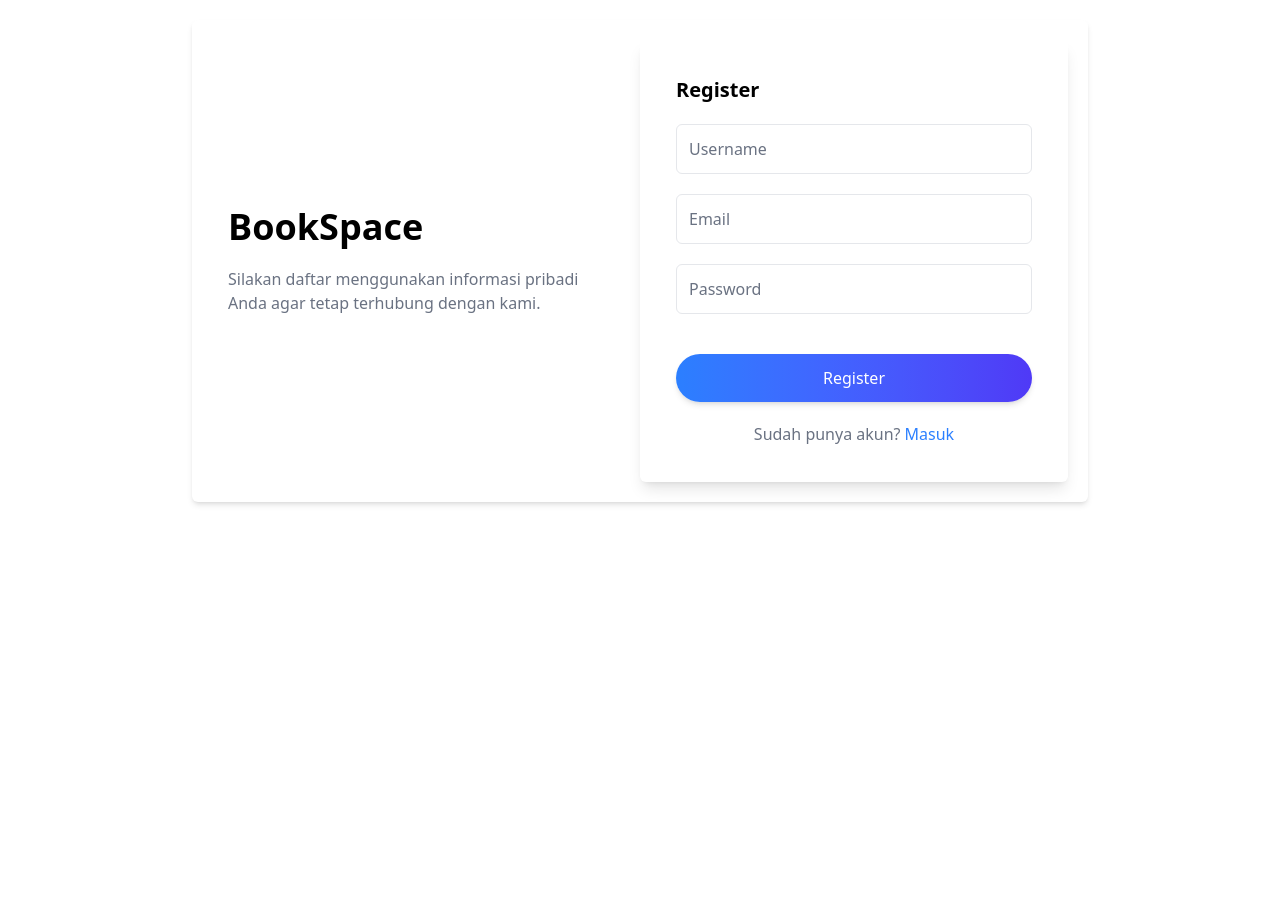
Halaman Register › menampilkan modal jika email/password tidak valid
This screenshot has width=1280, height=900.
Step 1. Type "pengguna salah dalam menginputkan" into the field with placeholder "Email" → (854, 219), box 676,194 -> 1032,244
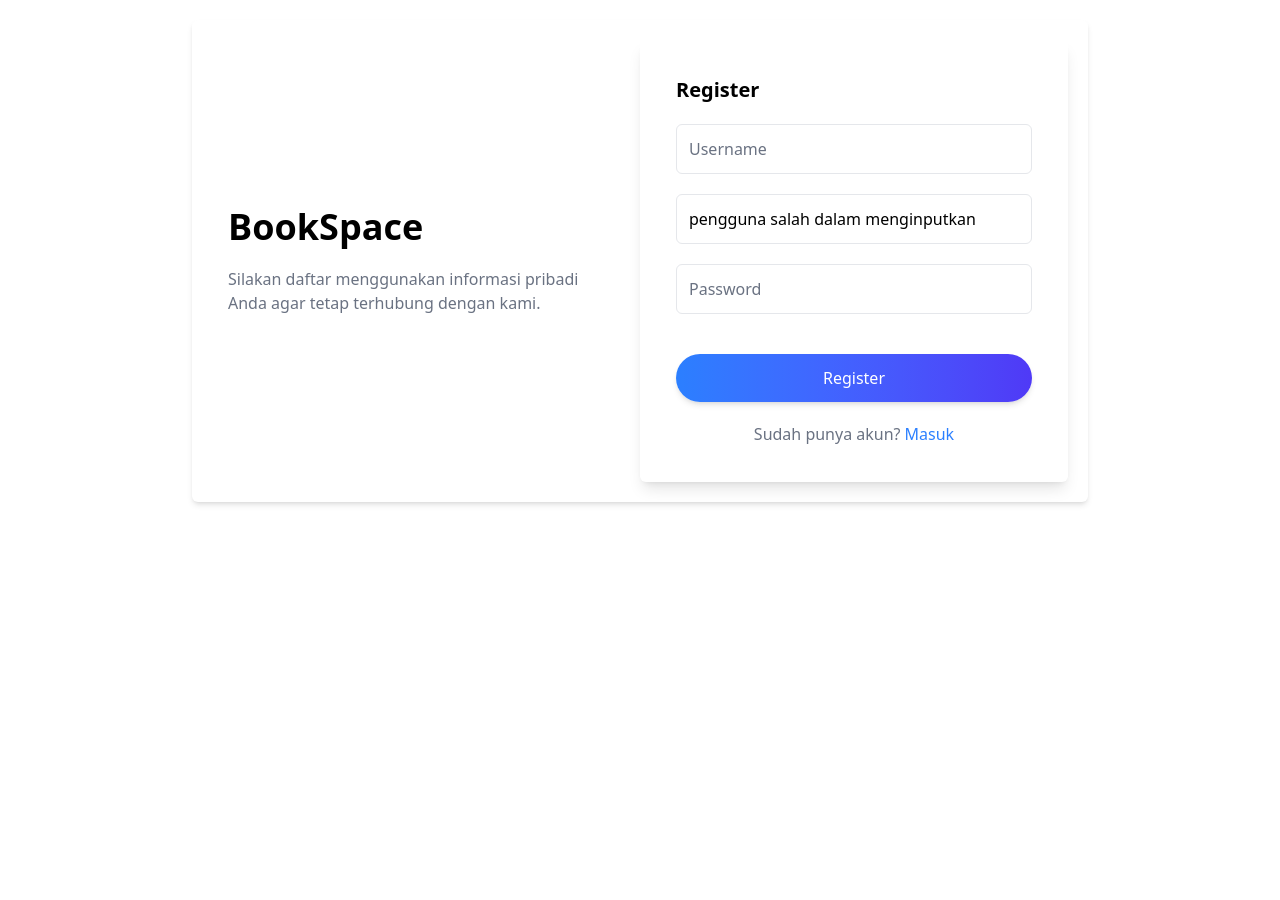
Step 2. Type "abc" into the password field with placeholder "Password" → (854, 289), box 676,264 -> 1032,314
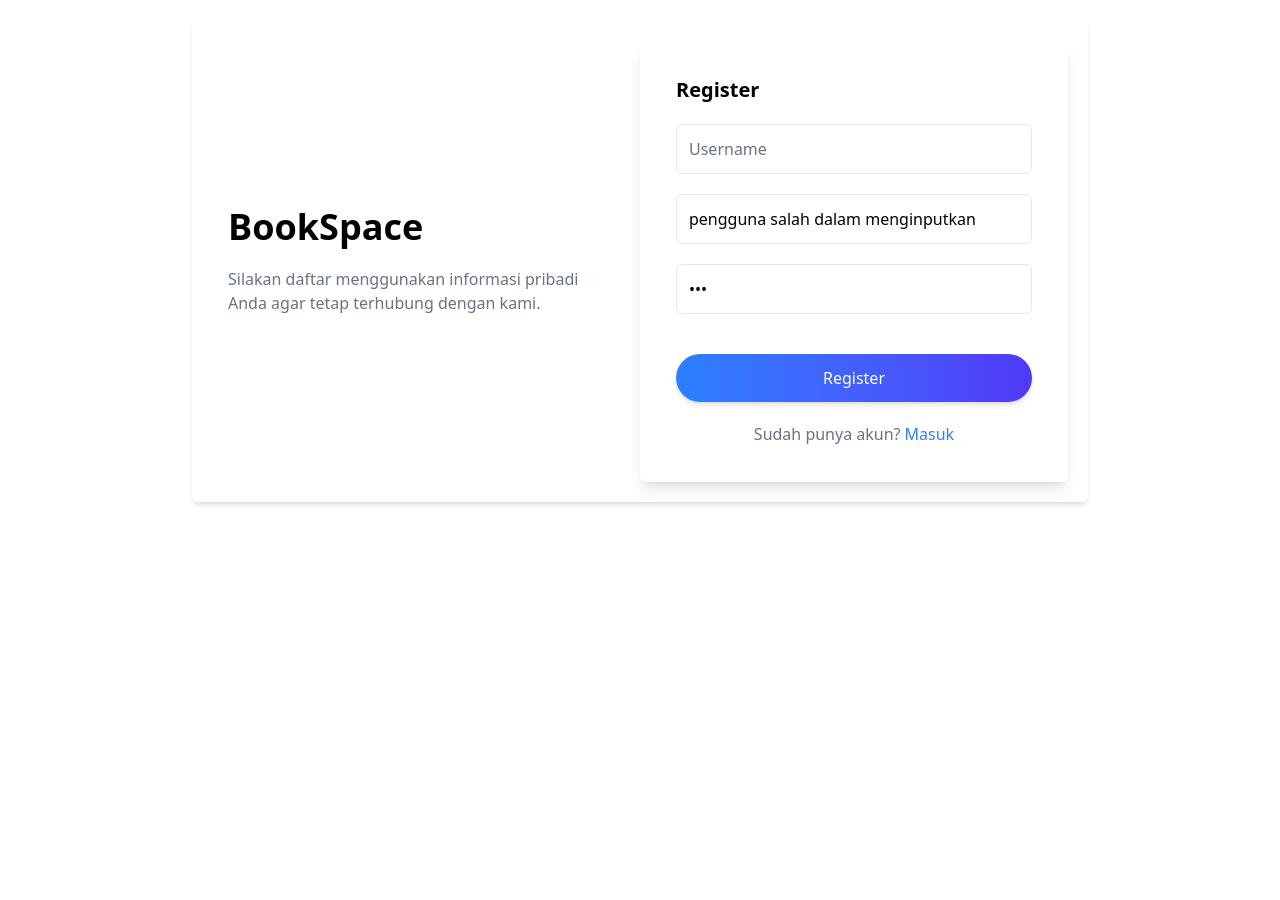
Step 3. Submit the form with test id "register-test", box 676,124 -> 1032,402
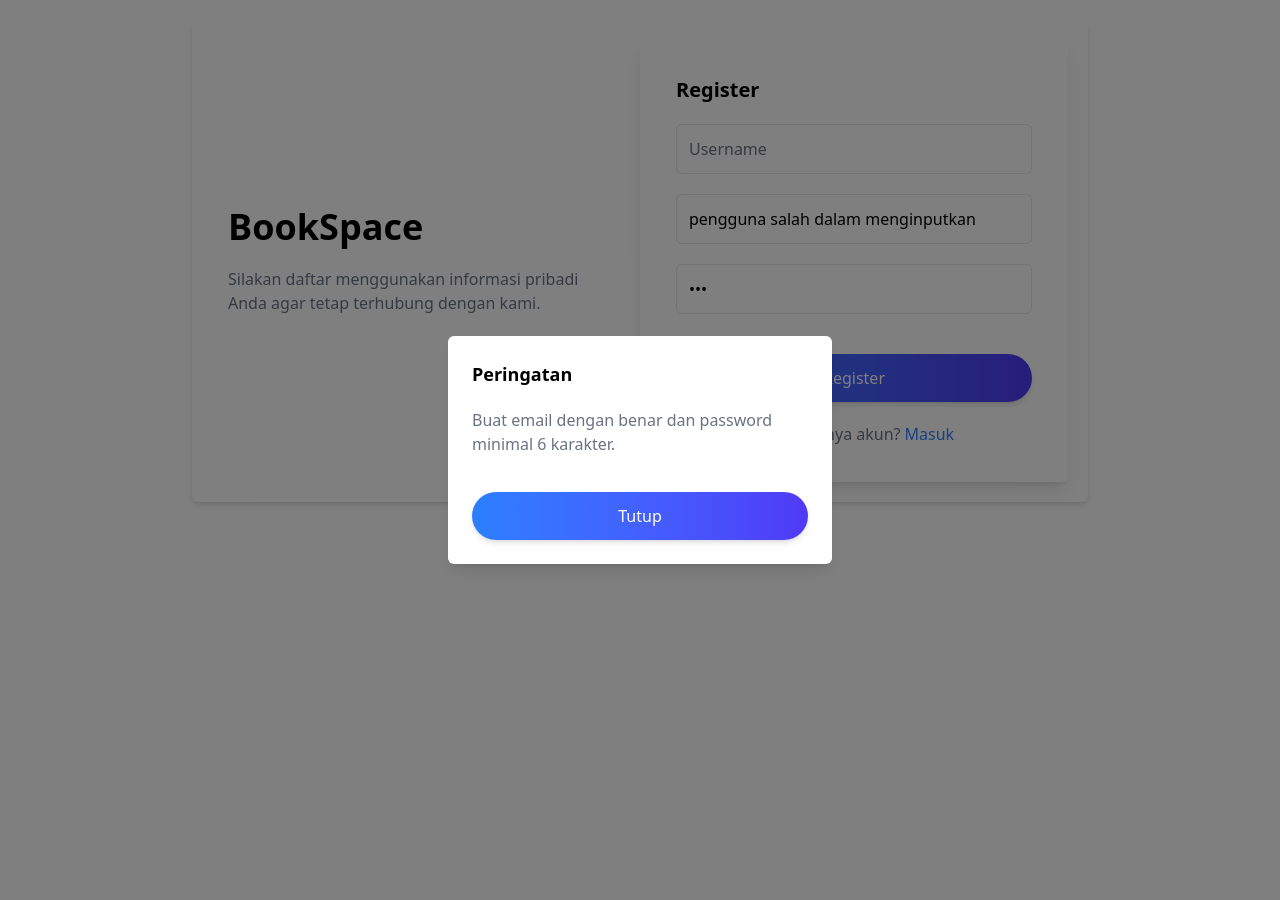
Expected: the text "Buat email dengan benar dan password minimal 6 karakter." is shown, 472,408 -> 808,456
